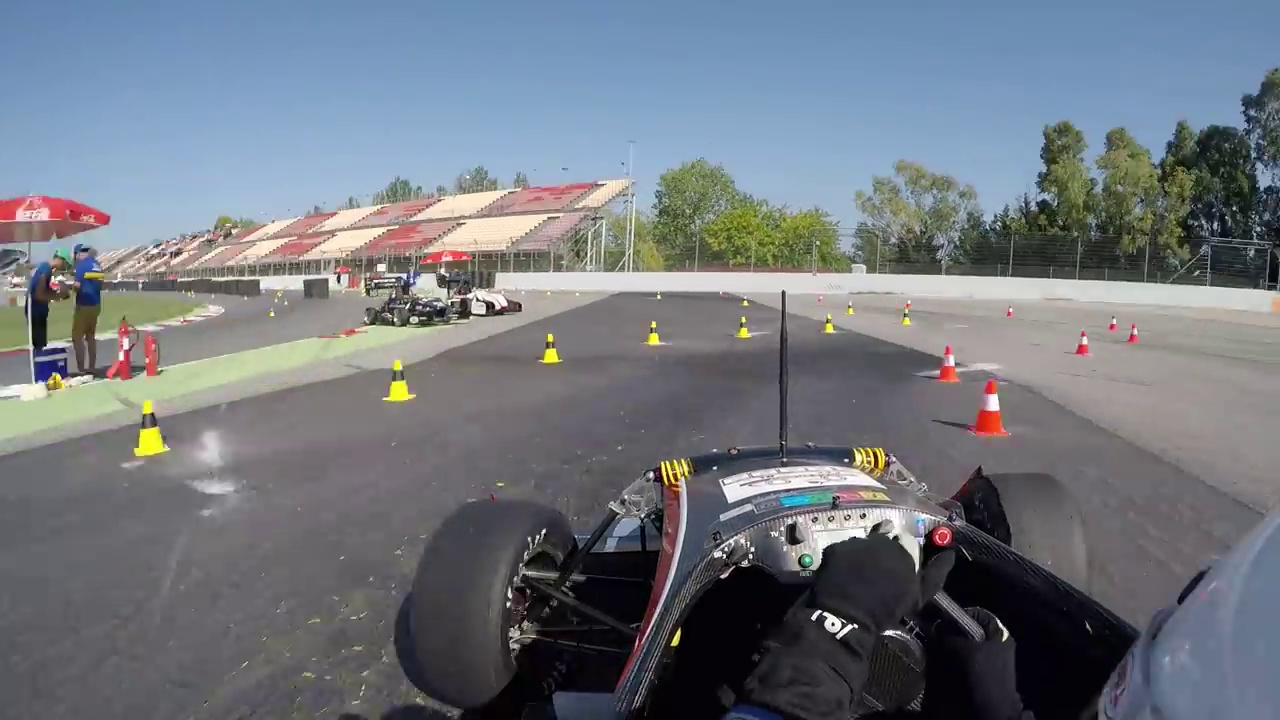Cone: (132, 397, 168, 458), (971, 380, 1008, 436), (382, 356, 412, 403), (934, 343, 958, 384), (543, 327, 565, 361), (645, 318, 665, 348)
